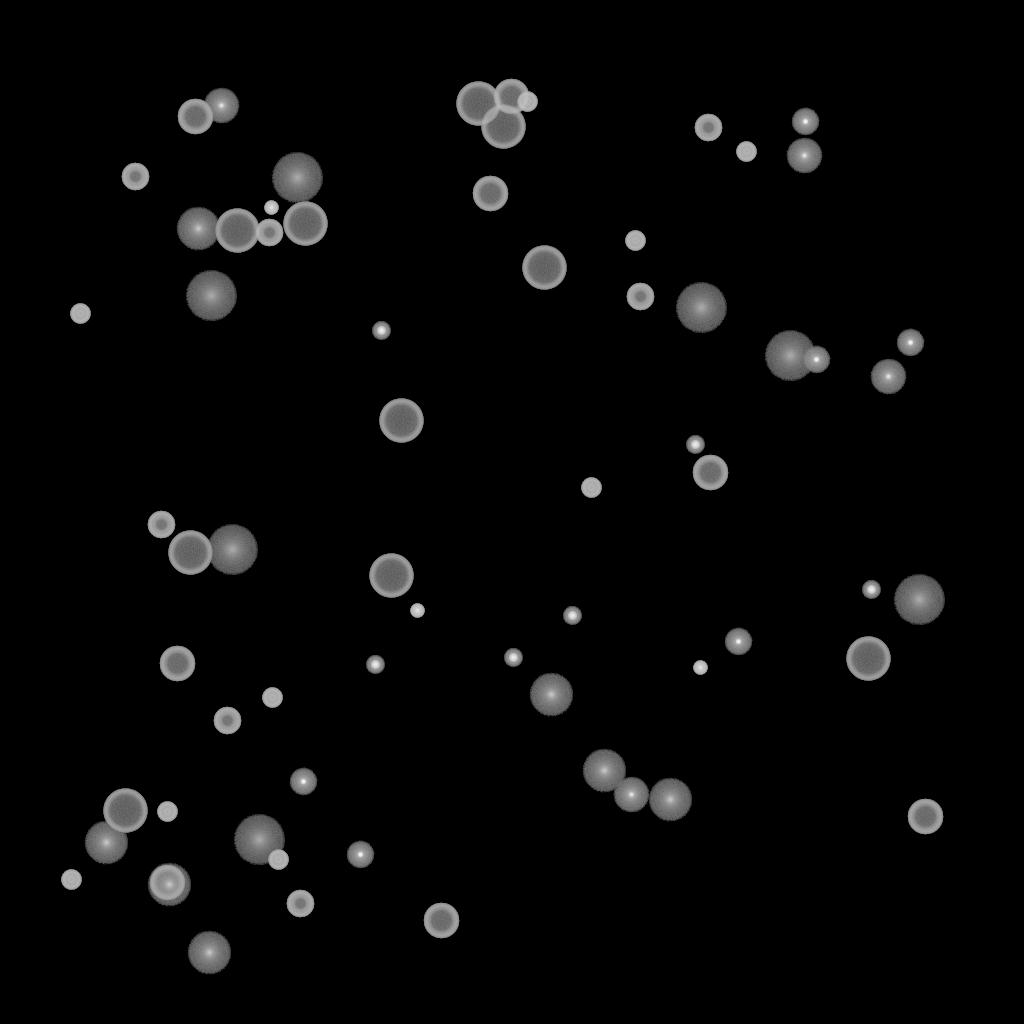depth:-10: (802, 346, 830, 374), (289, 768, 317, 796), (346, 841, 374, 869), (791, 108, 819, 136), (896, 329, 924, 357), (724, 628, 752, 656)
depth:-20: (372, 322, 390, 340), (366, 656, 384, 674), (563, 607, 581, 625), (686, 436, 704, 454), (504, 649, 522, 667), (862, 581, 880, 599)
depth:-30: (264, 201, 278, 215), (410, 604, 424, 618), (693, 661, 707, 675)
depth:-40: (625, 231, 645, 251), (268, 850, 288, 870), (61, 870, 81, 890), (157, 802, 177, 822), (736, 142, 756, 162), (581, 478, 601, 498), (517, 92, 537, 112), (70, 304, 90, 324), (262, 688, 282, 708)
depth:-50: (694, 114, 722, 142), (213, 707, 241, 735), (286, 890, 314, 918), (147, 511, 175, 539), (255, 219, 283, 247), (626, 283, 654, 311), (121, 163, 149, 191)
depth:-60: (907, 799, 943, 835), (159, 646, 195, 682), (472, 176, 508, 212), (149, 865, 185, 901), (177, 99, 213, 135), (423, 903, 459, 939), (493, 79, 529, 115), (692, 455, 728, 491)
depth:-70: (481, 105, 525, 149), (456, 82, 500, 126), (168, 531, 212, 575), (379, 399, 423, 443), (215, 209, 259, 253), (369, 554, 413, 598), (522, 246, 566, 290), (846, 637, 890, 681), (283, 202, 327, 246), (103, 789, 147, 833)
depth:0: (613, 777, 649, 813), (203, 88, 239, 124), (786, 138, 822, 174), (870, 359, 906, 395)
depth:10: (529, 673, 573, 717), (147, 863, 191, 907), (84, 821, 128, 865), (582, 749, 626, 793), (176, 207, 220, 251), (187, 931, 231, 975), (648, 778, 692, 822)
depth:20: (764, 331, 816, 381), (271, 153, 323, 203), (675, 283, 727, 333), (893, 575, 945, 625), (185, 271, 237, 321), (233, 815, 285, 865), (206, 525, 258, 575)
